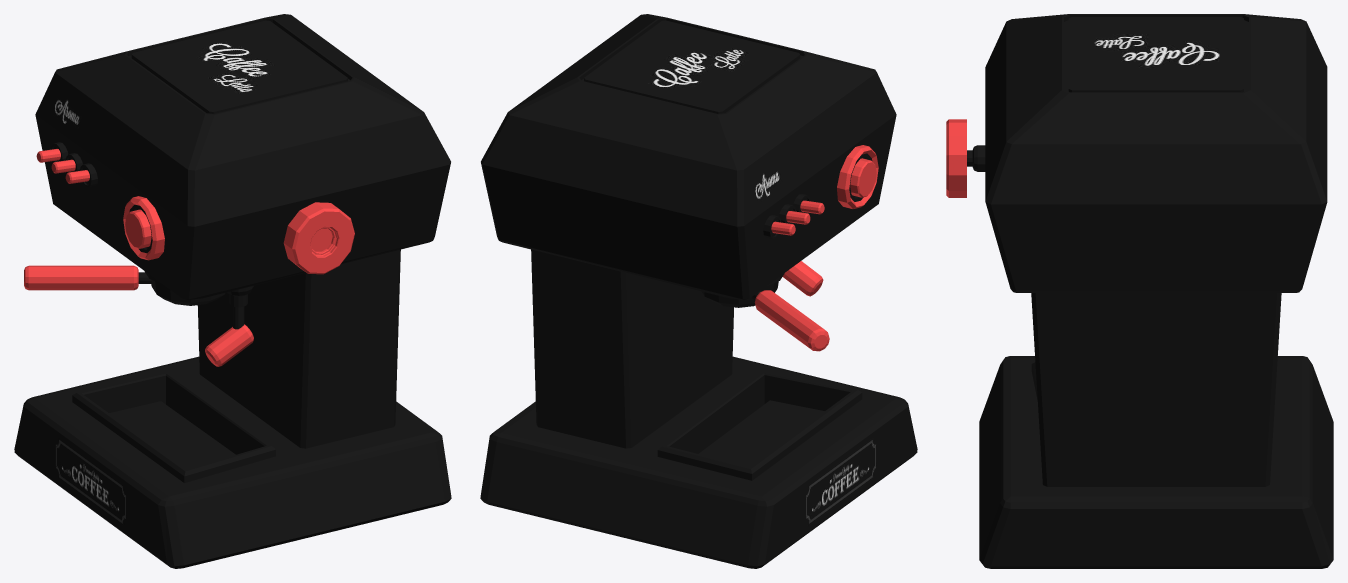
File: Coffee.obj
3 renders of one model, left to right at view 1: azimuth 30°, elevation 25°; view 2: azimuth 150°, elevation 25°; view 3: azimuth 270°, elevation 25°, orthographic. The views are drawn at different scales.
Visible parts, largest first — view 1: Coffee; view 2: Coffee; view 3: Coffee.
Boxes of the visible parts, x1,y1,x2,y2 form: Coffee: [14, 14, 451, 568]; Coffee: [480, 14, 917, 568]; Coffee: [946, 14, 1333, 568].
Bounding box in the file's own units: 113 × 143 × 112.
1 material, 1 textured.
